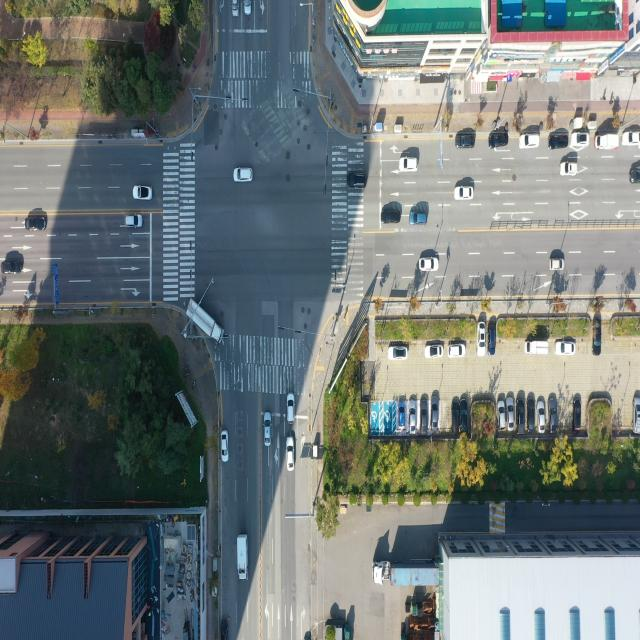car: (592, 315, 602, 355), (234, 167, 255, 184), (26, 216, 48, 232), (489, 133, 509, 150), (387, 346, 408, 362), (420, 396, 429, 432), (134, 183, 153, 200), (556, 341, 576, 357), (430, 398, 439, 433), (286, 438, 295, 472), (478, 324, 487, 358), (527, 396, 535, 434), (520, 134, 540, 149), (126, 213, 144, 229), (622, 131, 640, 147), (488, 326, 497, 358), (550, 398, 558, 434), (518, 396, 526, 432), (452, 398, 460, 434), (399, 158, 418, 173), (455, 185, 474, 200), (425, 345, 444, 360), (381, 210, 401, 224), (572, 398, 580, 433), (460, 397, 468, 432), (410, 402, 418, 436), (448, 344, 466, 359), (419, 260, 438, 274), (550, 136, 569, 150), (456, 136, 475, 150), (266, 413, 274, 446), (4, 262, 22, 276), (570, 133, 588, 147), (550, 255, 564, 273), (497, 401, 505, 432), (411, 212, 428, 226), (538, 400, 545, 434), (287, 396, 295, 425), (506, 396, 513, 429), (634, 398, 640, 436), (561, 162, 577, 176), (220, 431, 227, 463), (347, 180, 367, 190), (219, 619, 228, 640), (398, 405, 405, 431), (630, 170, 640, 185), (242, 0, 251, 16), (233, 0, 241, 17)
large_truck: (371, 560, 442, 588)
medium_truck: (183, 296, 226, 344), (237, 533, 249, 581)
small_truck: (595, 134, 619, 151), (524, 341, 548, 356)
